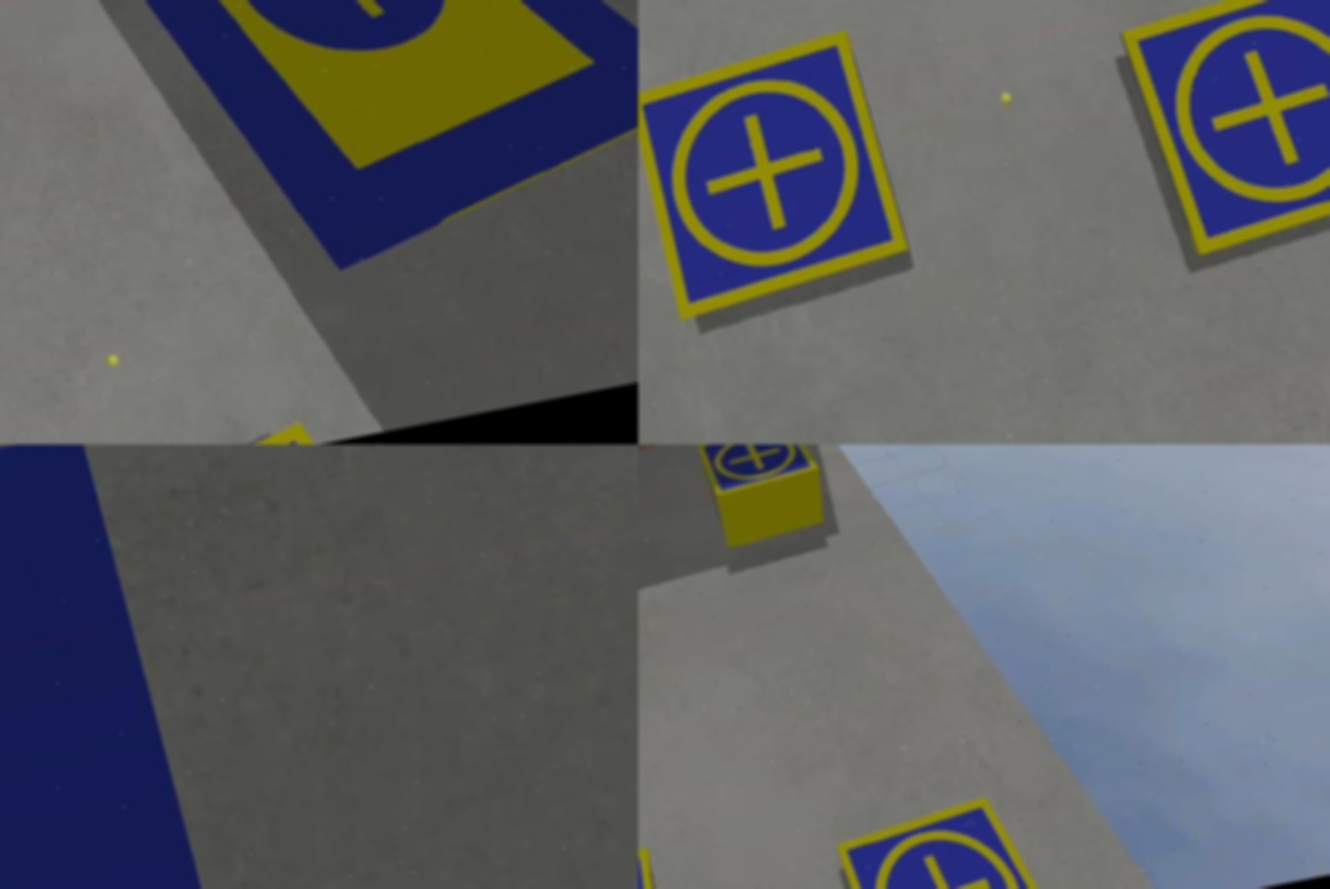large_base: (59, 1, 639, 310), (1, 445, 275, 889)
small_base: (639, 25, 918, 328), (1114, 1, 1330, 266), (833, 787, 1056, 889), (698, 445, 825, 499)
